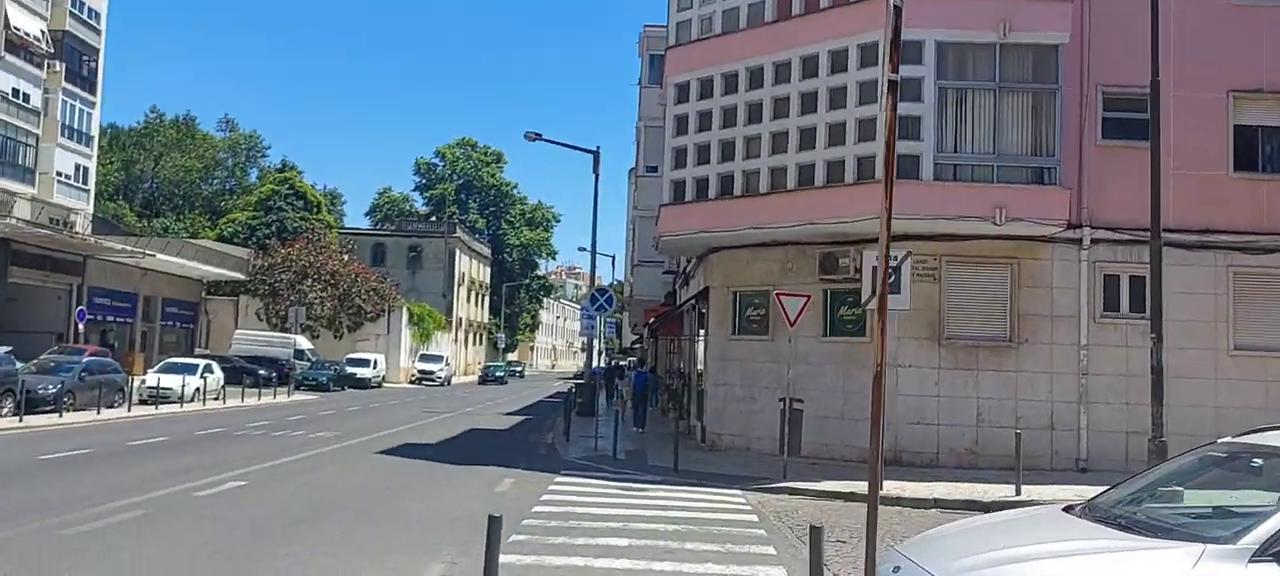cedencia de passagem: (771, 272, 828, 332)
